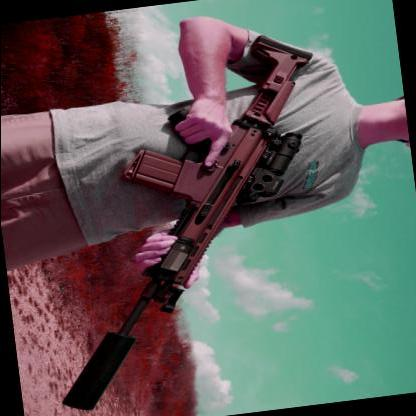rifle: (18, 29, 365, 409)
